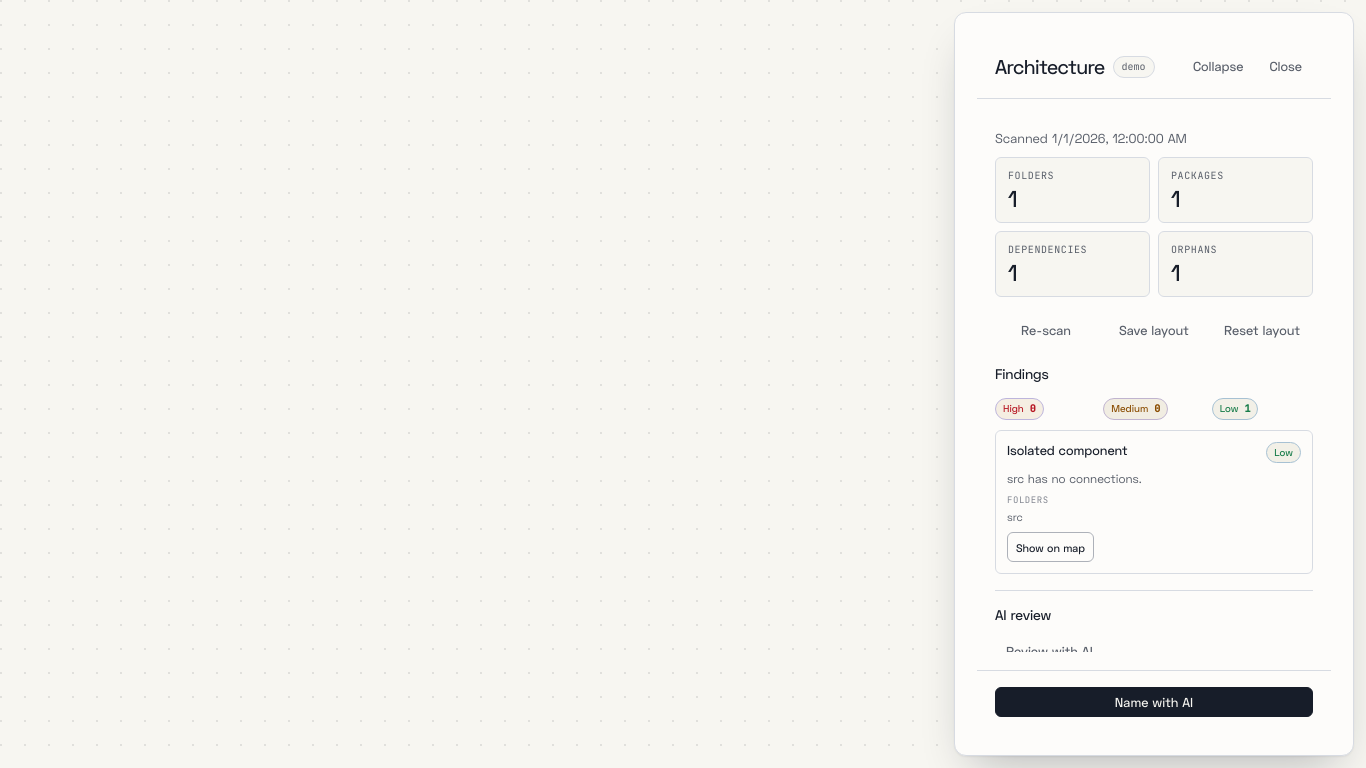
Test: ArchPanel › can collapse and expand the inspector sheet
This screenshot has width=1366, height=768.
Click the button with aria-label "Collapse inspector" at (1218, 66), box [1182,52,1254,82]
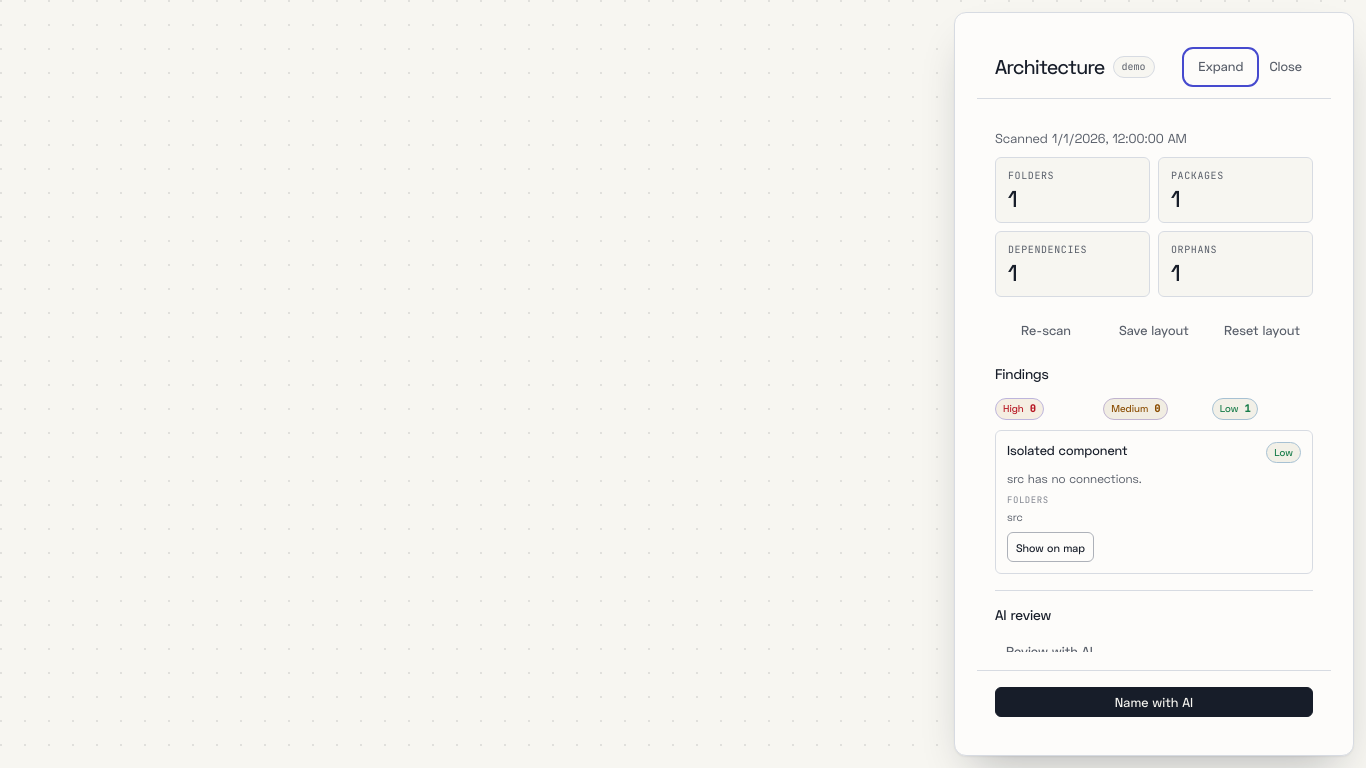
Now the button with aria-label "Expand inspector" is collapsed
Click the button with aria-label "Expand inspector" at (1221, 66), box [1187,52,1254,82]
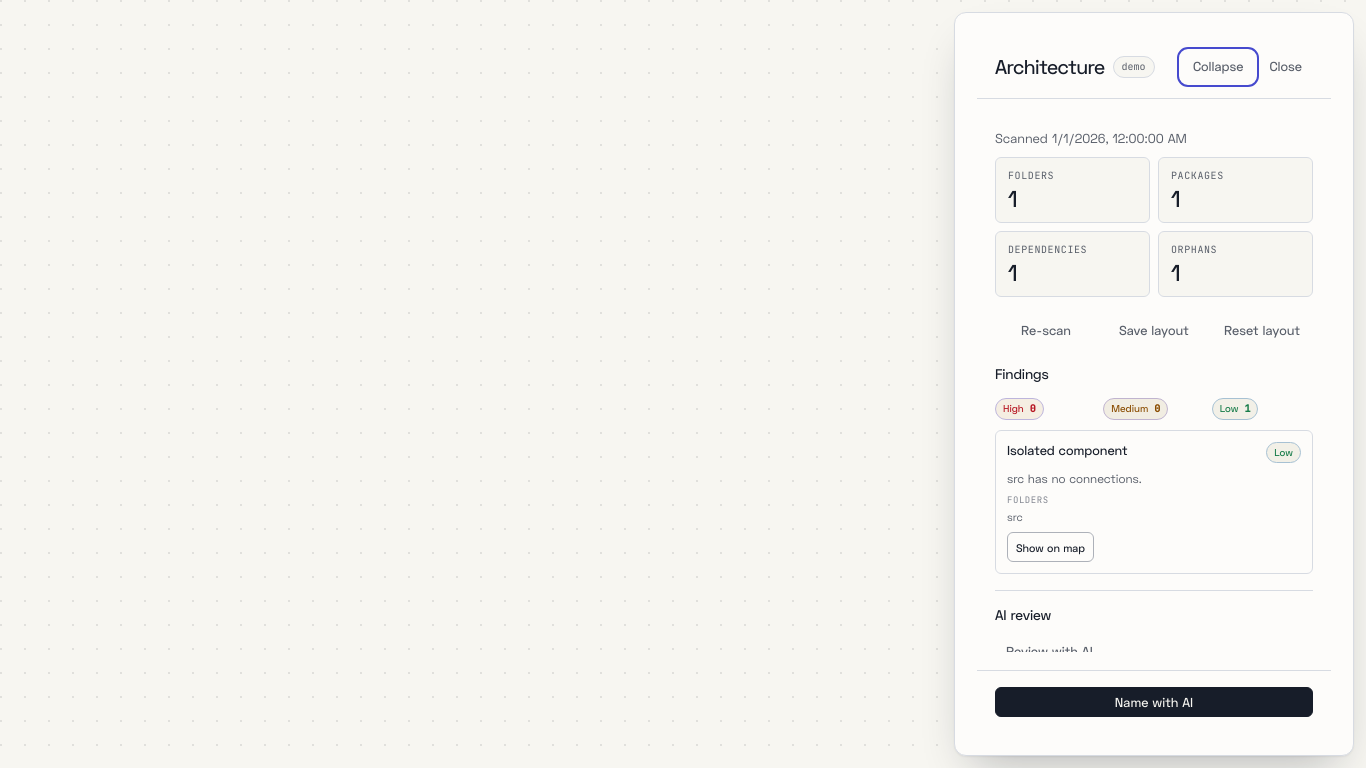
Now the button with aria-label "Collapse inspector" is expanded, box [1182,52,1254,82]
